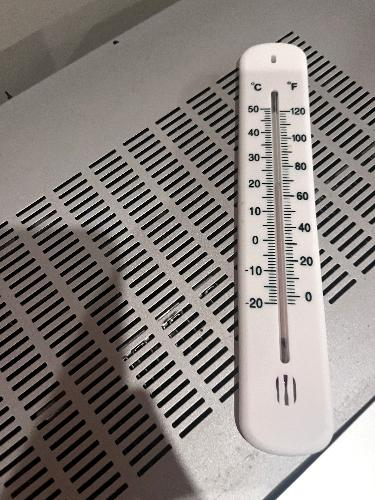thermo: (237, 40, 336, 448)
